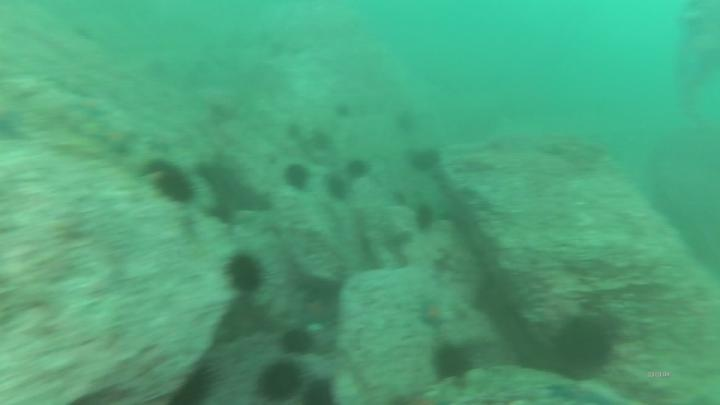echinus: (553, 324, 612, 379), (260, 365, 298, 400), (229, 257, 262, 289), (435, 349, 470, 378), (161, 179, 194, 202), (283, 330, 312, 352), (285, 163, 307, 189), (415, 151, 441, 172), (327, 177, 351, 196), (419, 200, 436, 223), (350, 162, 371, 178)
starfish: (421, 302, 454, 326), (101, 130, 132, 155), (77, 99, 106, 120), (305, 299, 335, 319)
